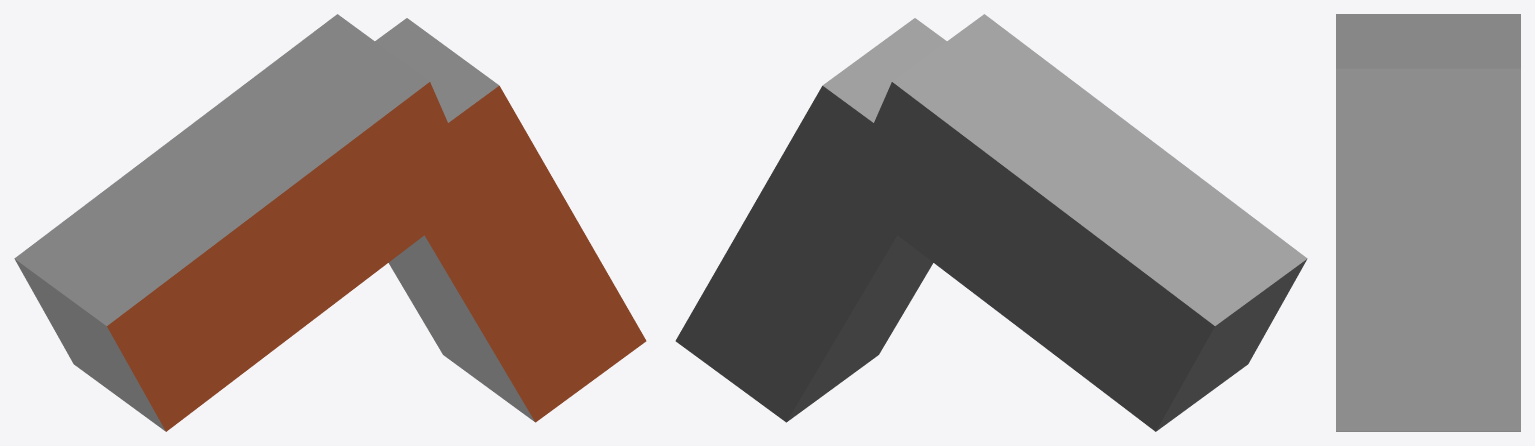
Rendered from construction_6887_assumed_A_Casa_h6m.obj.
The picture shows the model from 3 angles, left to right: view 1: azimuth 30°, elevation 25°; view 2: azimuth 150°, elevation 25°; view 3: azimuth 270°, elevation 25°; orthographic projection.
Parts seen in each view (by area): view 1: construction_6887_assumed_A_Casa; view 2: construction_6887_assumed_A_Casa; view 3: construction_6887_assumed_A_Casa.
Boxes of the visible parts, x1,y1,x2,y2 form: construction_6887_assumed_A_Casa: (14,14,646,431); construction_6887_assumed_A_Casa: (675,14,1307,431); construction_6887_assumed_A_Casa: (1336,14,1520,431).
Size of the model in its own units: 20.21 by 13.12 by 6.
